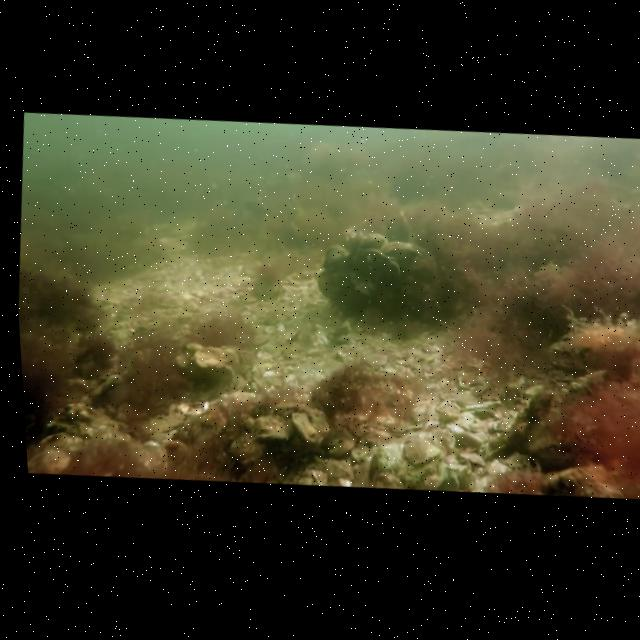Oyster-Closed: (355, 247, 400, 275), (378, 241, 422, 256), (357, 231, 387, 248)
Oyster-Indeterminate: (347, 271, 370, 297)
